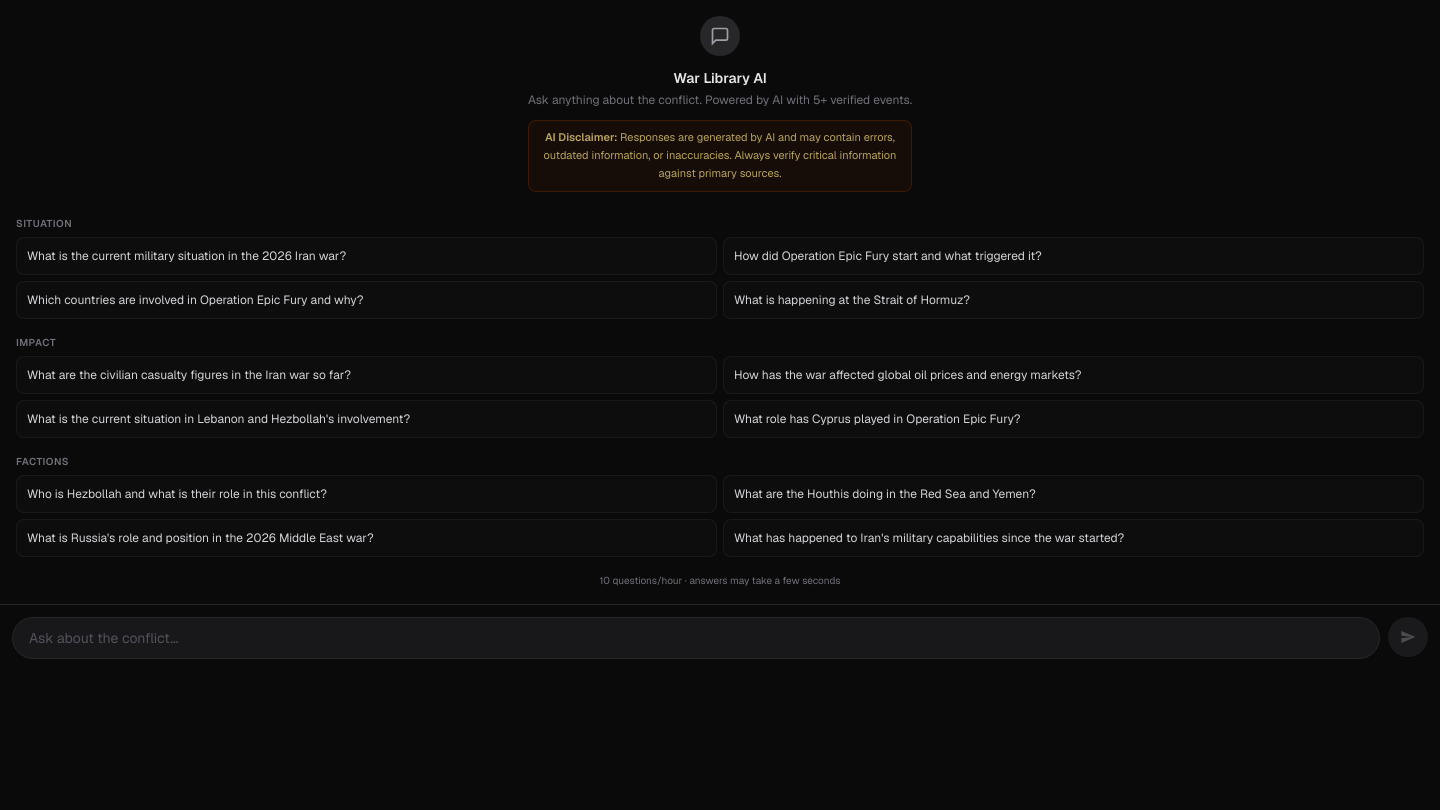
AskPanel › enables send button when input has text
Step 1. Type "What is happening?" into the field with placeholder "Ask about the conflict..." → (696, 638), box left=12, top=617, right=1380, bottom=659
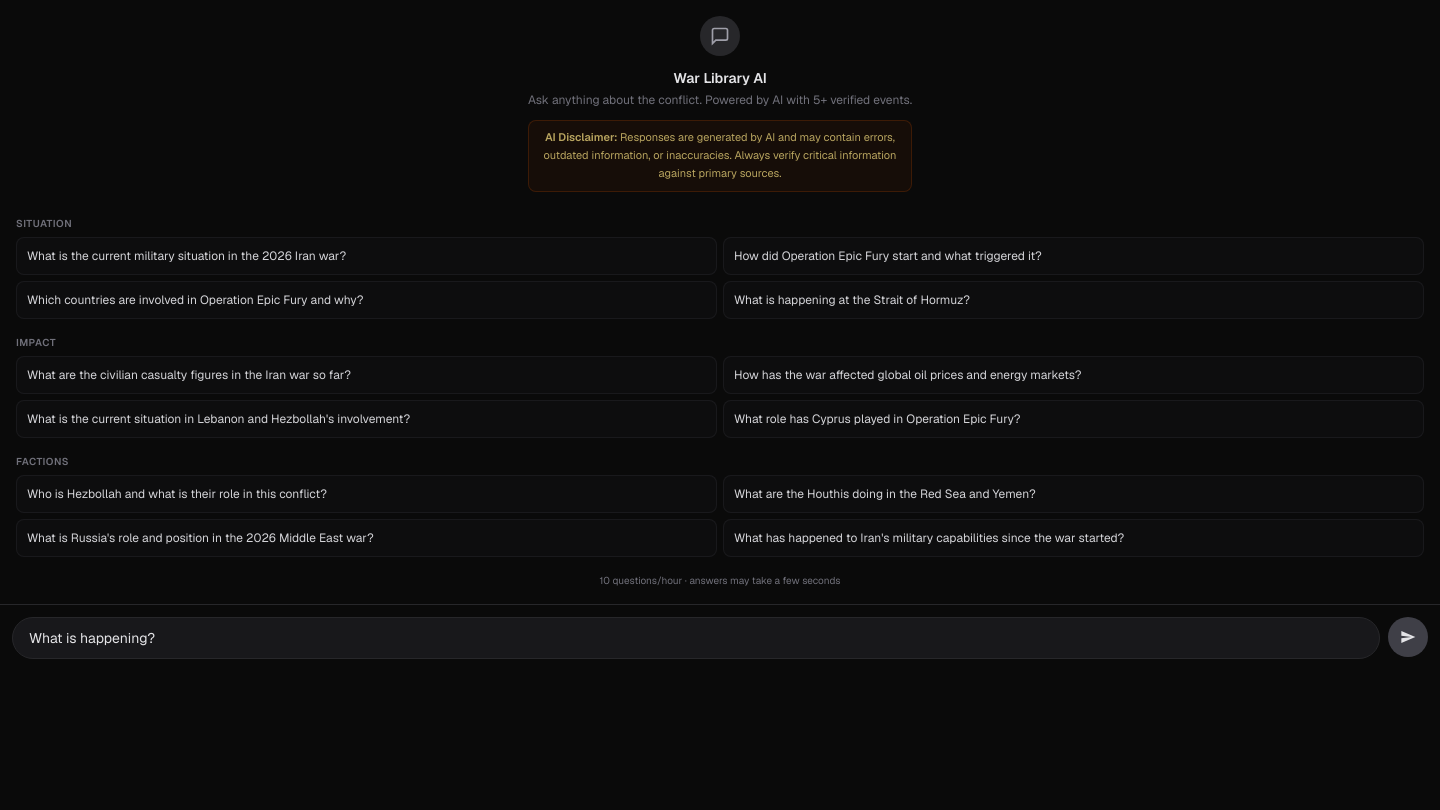
expect the button named "Send" is enabled: met, box left=1388, top=617, right=1428, bottom=657
